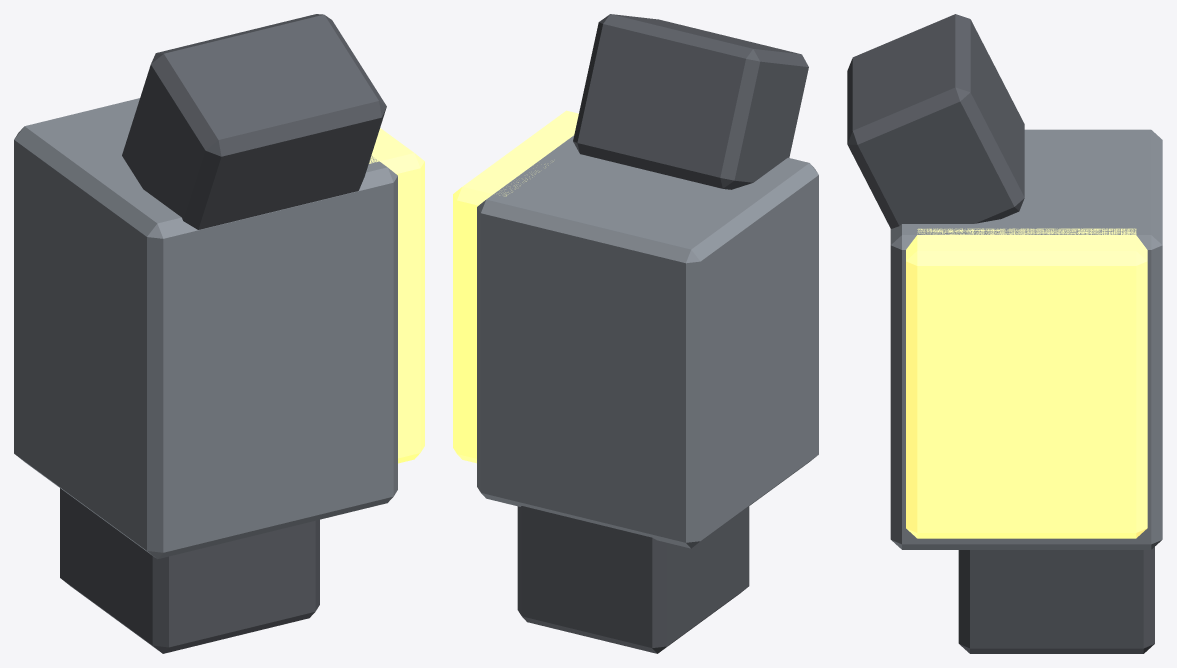
Rendered from tankhead_arm_right_lower.glb.
The picture shows the model from 3 angles, left to right: view 1: azimuth 30°, elevation 25°; view 2: azimuth 150°, elevation 25°; view 3: azimuth 270°, elevation 25°; orthographic projection. The views are drawn at different scales.
Visible parts, largest first — view 1: tankhead_arm_right_lower; view 2: tankhead_arm_right_lower; view 3: tankhead_arm_right_lower.
Part boxes in pixels (x1,y1,x2,y2): tankhead_arm_right_lower: (14,14,424,653); tankhead_arm_right_lower: (453,14,818,653); tankhead_arm_right_lower: (847,14,1162,653).
Bounding box in the file's own units: 0.41 × 0.8323 × 0.4175.
